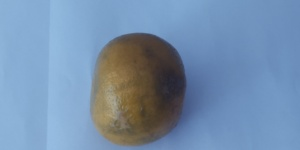BAD: (92, 32, 187, 146)
